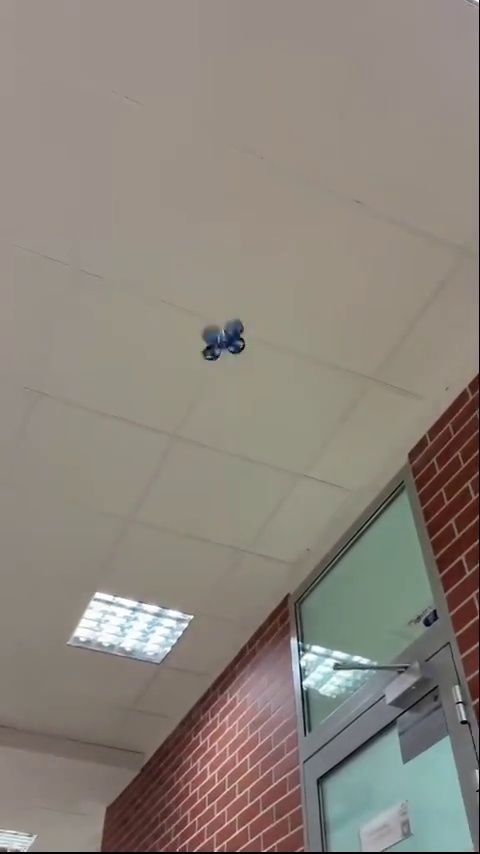drone: (197, 318, 249, 361)
